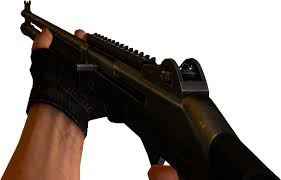gun: (19, 1, 278, 179)
